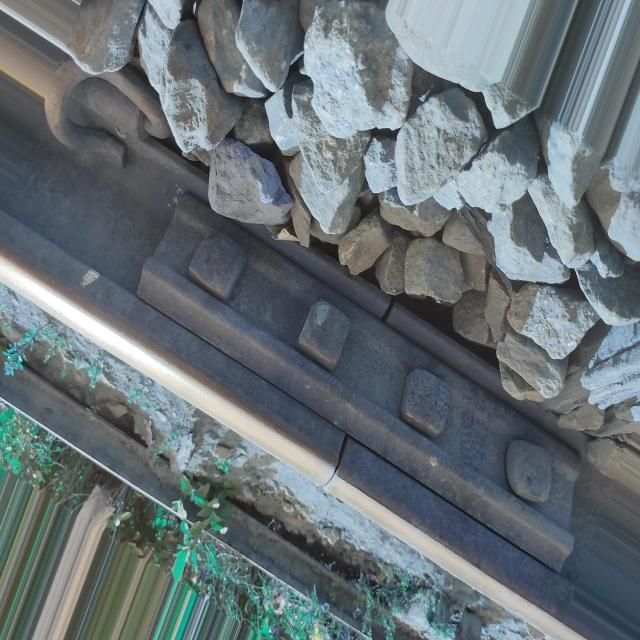Good Joint: (137, 194, 580, 569)
